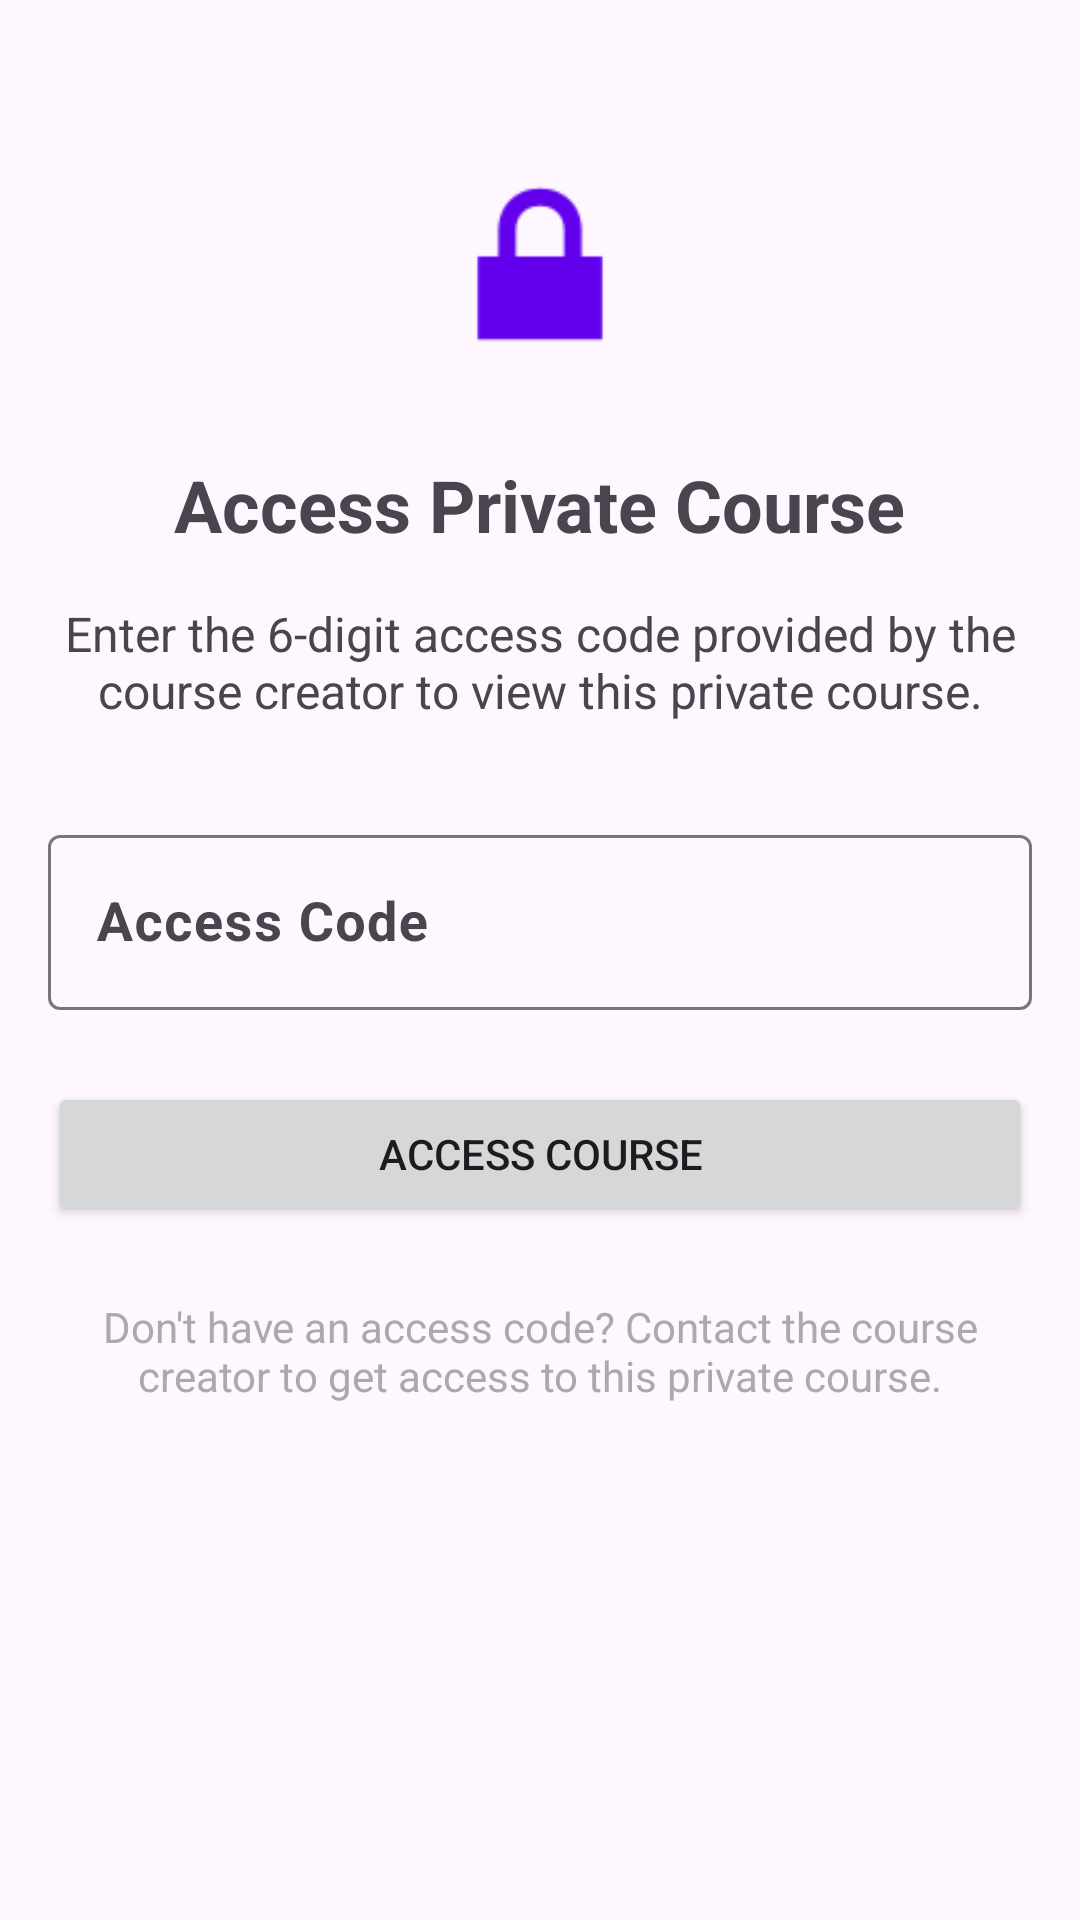

Where to tap for icons on this 1080w x 1920h app screen, as [x,y]:
lock: [540,264]
